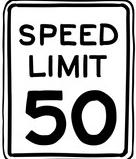Speed Limit -50-: (0, 1, 135, 158)
